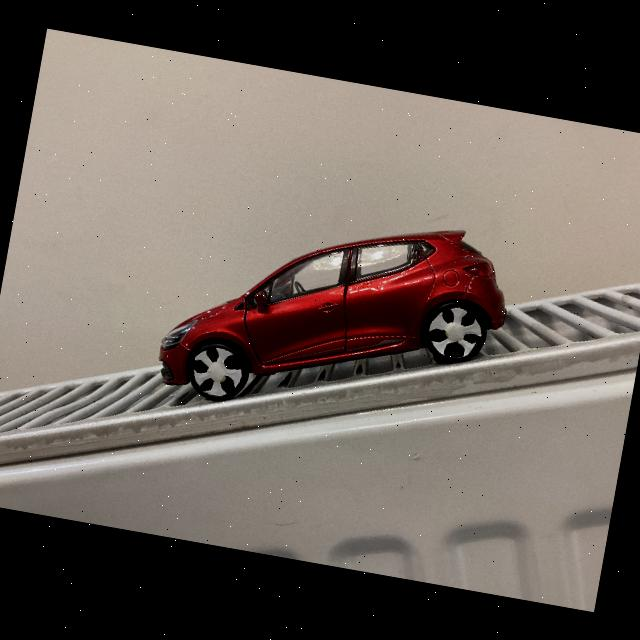Yanlis_Jant: (424, 301, 486, 362), (186, 342, 247, 400)
